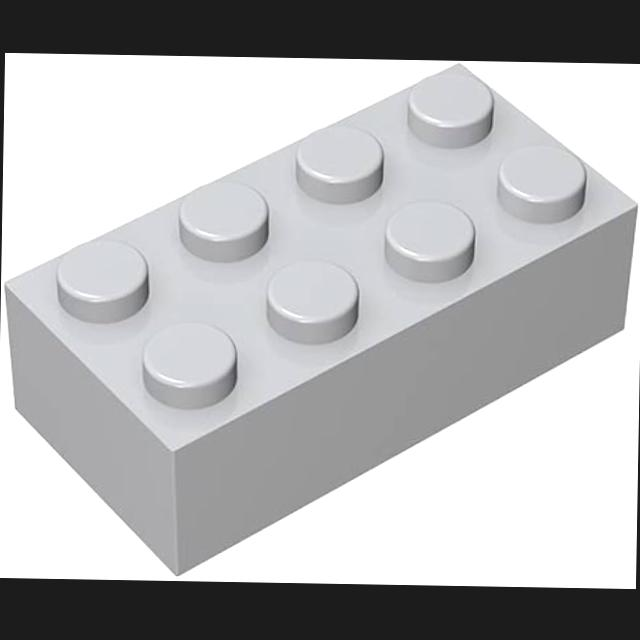2x4: (5, 64, 636, 572)
